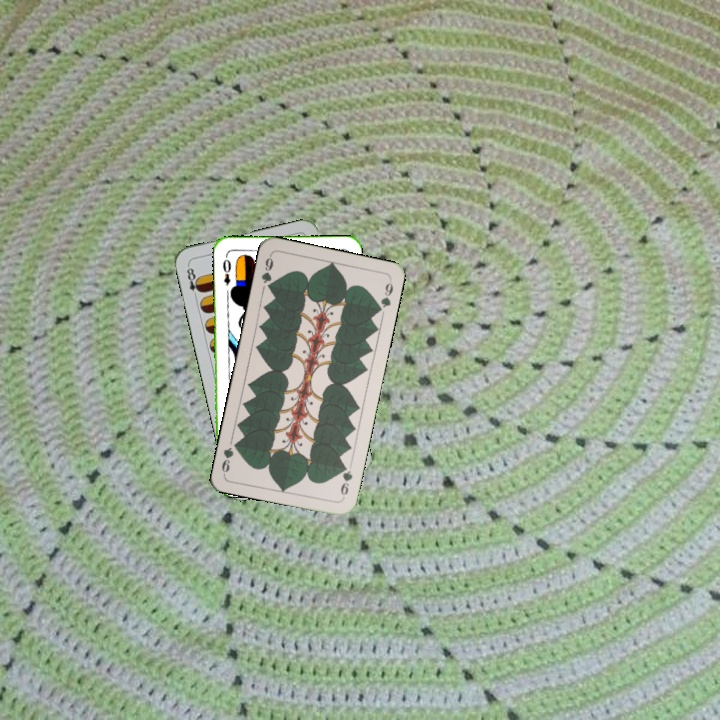E8: (183, 261, 204, 301)
EO: (218, 255, 234, 288)
G9: (257, 251, 276, 293), (337, 460, 355, 501)
